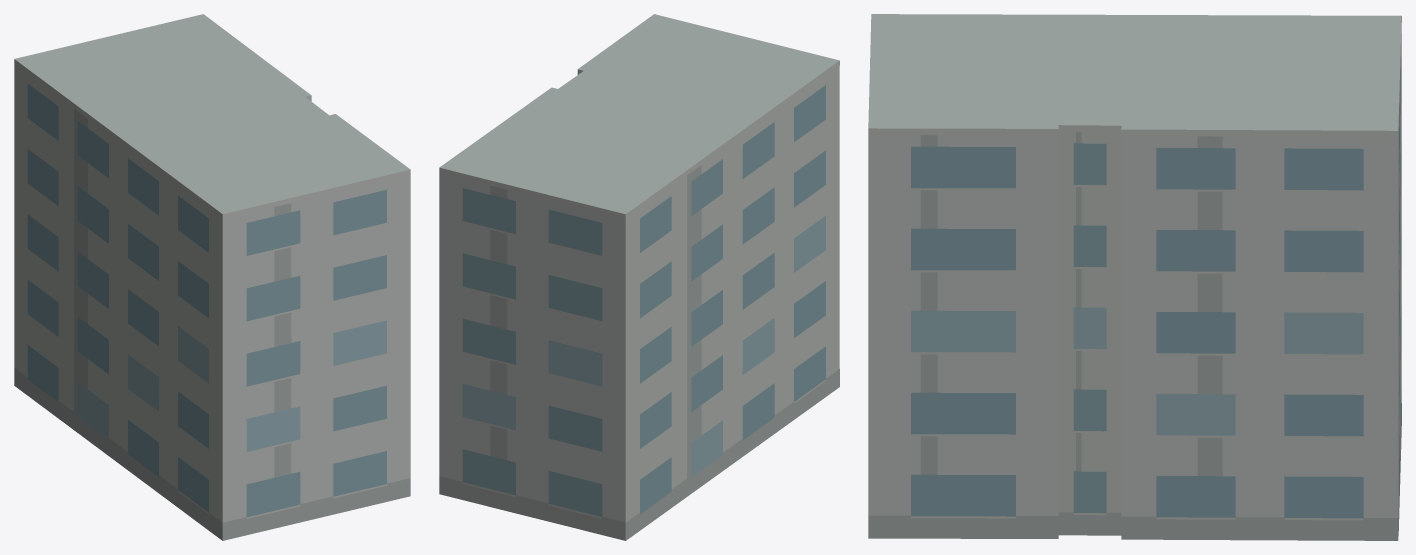
The model's file is survey-upis-32637732.glb.
The picture shows the model from 3 angles, left to right: view 1: azimuth 30°, elevation 25°; view 2: azimuth 150°, elevation 25°; view 3: azimuth 270°, elevation 25°; orthographic projection. The views are drawn at different scales.
Visible parts, largest first — view 1: survey-upis-32637732.tmp; view 2: survey-upis-32637732.tmp; view 3: survey-upis-32637732.tmp.
Boxes of the visible parts, x1,y1,x2,y2 form: survey-upis-32637732.tmp: (14, 14, 410, 540); survey-upis-32637732.tmp: (439, 14, 839, 540); survey-upis-32637732.tmp: (868, 14, 1401, 540).
Size of the model in its own units: 9.33 by 15.25 by 17.99.
